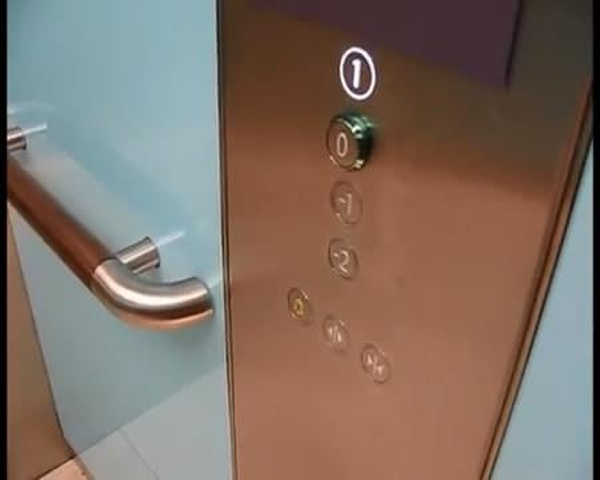-1: (327, 178, 365, 228)
-2: (325, 238, 360, 281)
0: (322, 111, 371, 174)
1: (338, 46, 376, 103)
alarm: (286, 285, 311, 325)
close: (358, 341, 390, 384)
open: (319, 312, 350, 353)
